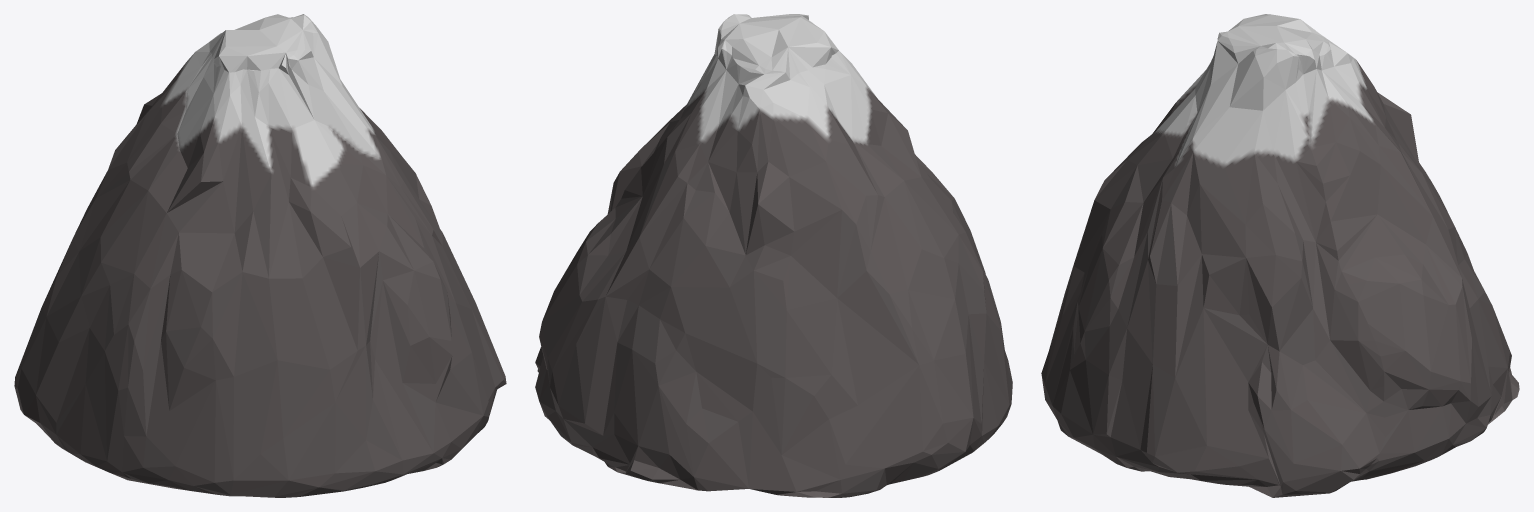
Rendered from Mountain Bg 4.fbx.
3 renders of one model, left to right at view 1: azimuth 30°, elevation 25°; view 2: azimuth 150°, elevation 25°; view 3: azimuth 270°, elevation 25°, orthographic.
Visible parts, largest first — view 1: Mountain_Bg_4; view 2: Mountain_Bg_4; view 3: Mountain_Bg_4.
Boxes of the visible parts, left/top/right/bottom form: Mountain_Bg_4: left=14, top=14, right=506, bottom=497; Mountain_Bg_4: left=535, top=14, right=1012, bottom=497; Mountain_Bg_4: left=1041, top=14, right=1519, bottom=497.
Size of the model in its own units: 92.66 by 83.54 by 91.29.
Materials: 1 (1 with a texture image).
